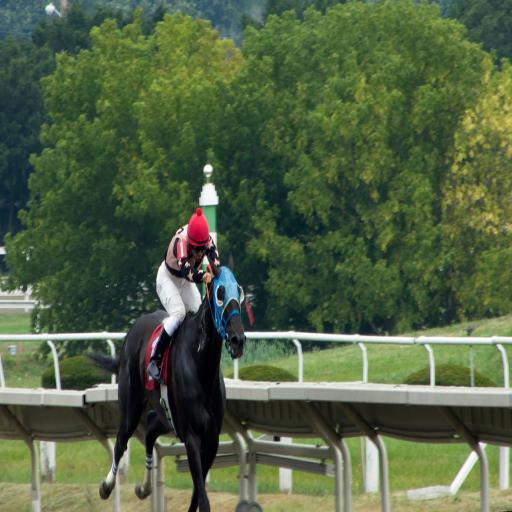Horse: (99, 255, 248, 511)
